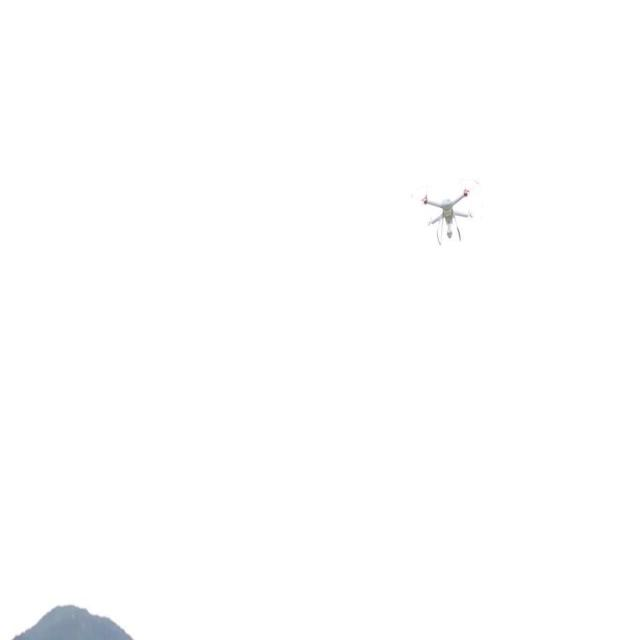UAV: (411, 178, 479, 245)
